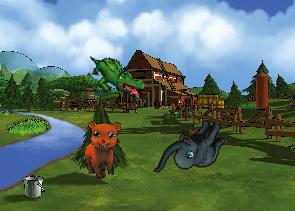bear: (80, 117, 128, 180)
crocodile: (84, 54, 149, 100)
elephant: (152, 106, 230, 192)
